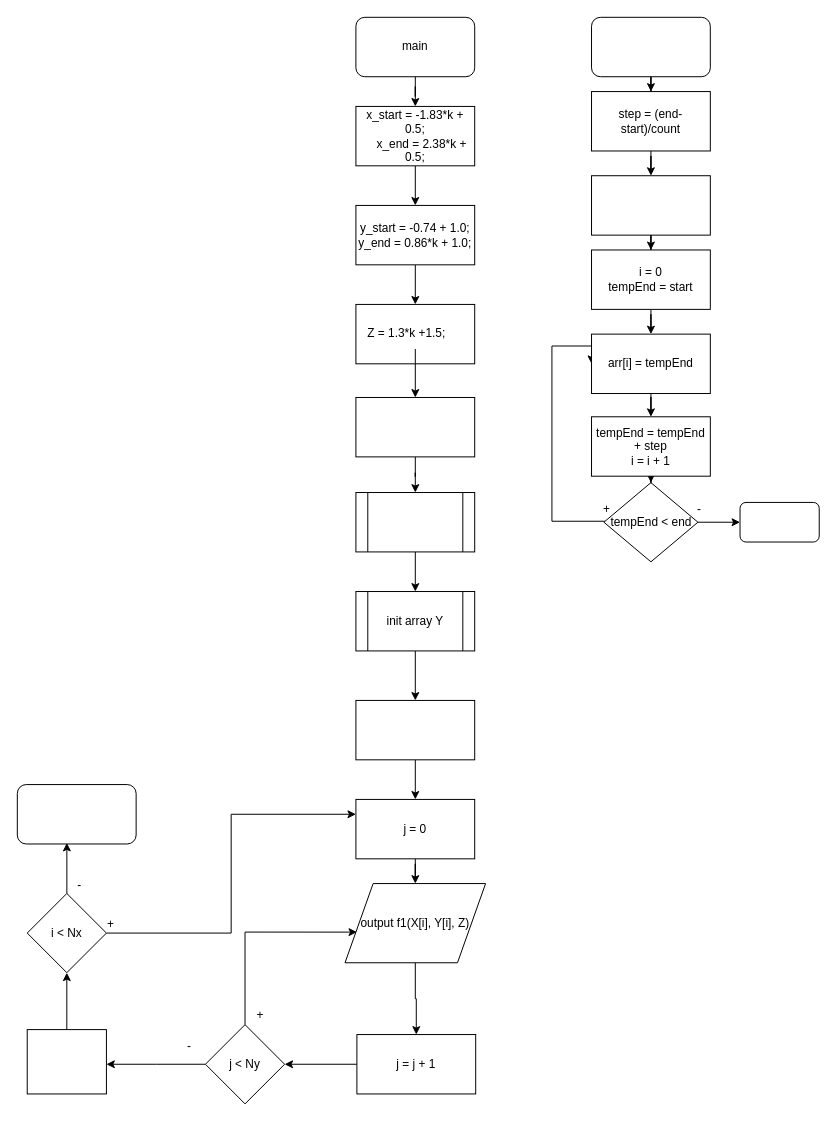
The diagram is 837 pixels wide and 1122 high, and some of its shapes have lost their labels. The shapes that lost their labels are listed below. From the top down, each one's centre as x and y in pixels, then its label:
At point (650, 46): "init Array input: start, end, count".
At point (650, 205): "arr = new double[count]".
At point (415, 426): "Nx = 10; Ny = 15; Nz = 1;".
At point (415, 522): "init array X".
At point (779, 521): "return arr".
At point (415, 729): "i = 0".
At point (76, 814): "return".
At point (66, 1061): "i = i + 1".
